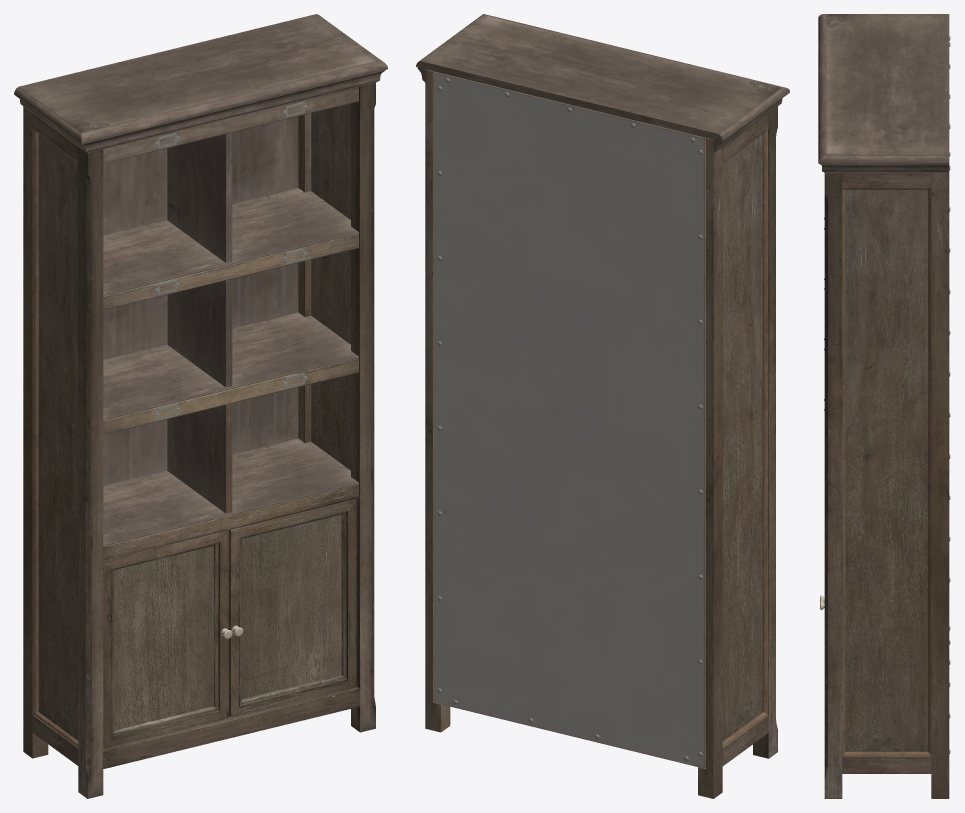
The model's file is abo-B07B7DL32H.glb.
3 renders of one model, left to right at view 1: azimuth 30°, elevation 25°; view 2: azimuth 150°, elevation 25°; view 3: azimuth 270°, elevation 25°, orthographic. The views are drawn at different scales.
Bounding box in the file's own units: 0.906 × 1.88 × 0.348.
Materials: 1 (1 with a texture image).
